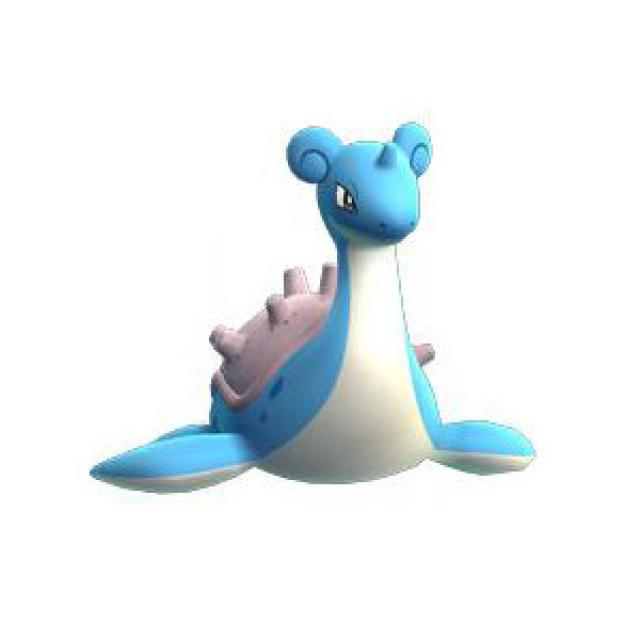Lapras: (94, 120, 490, 483)
